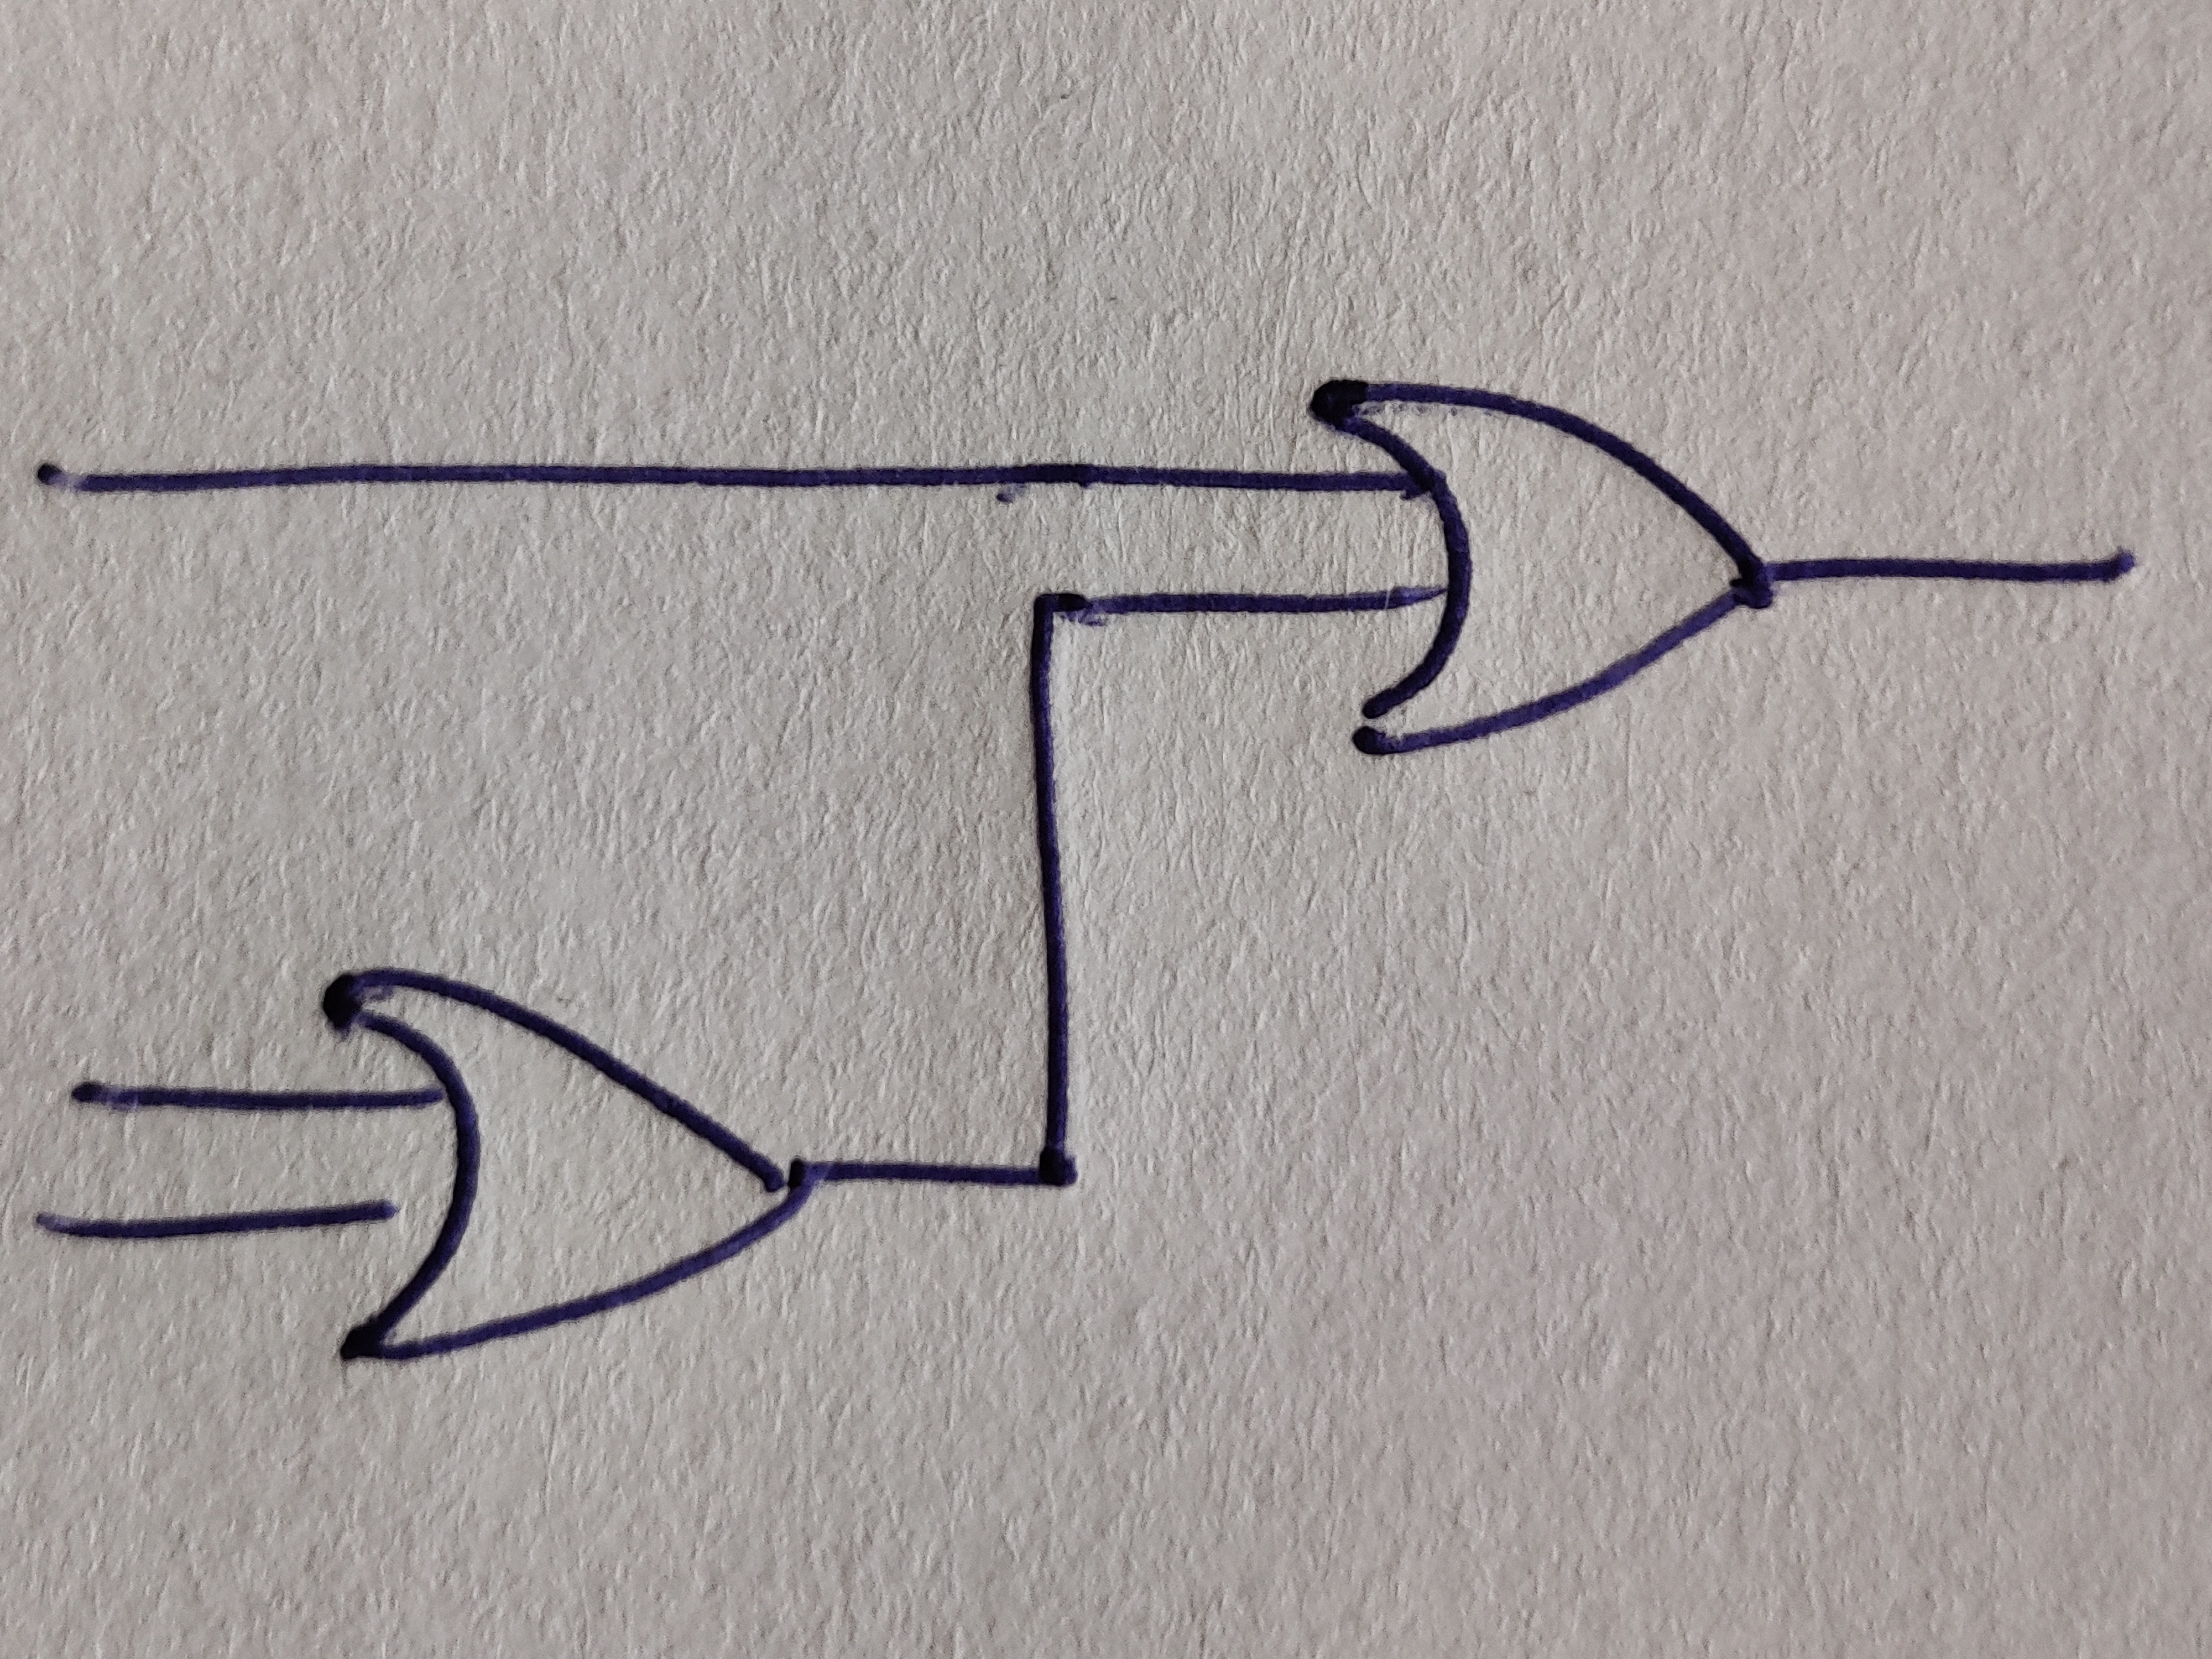or: (320, 964, 812, 1366), (1306, 376, 1773, 756)
